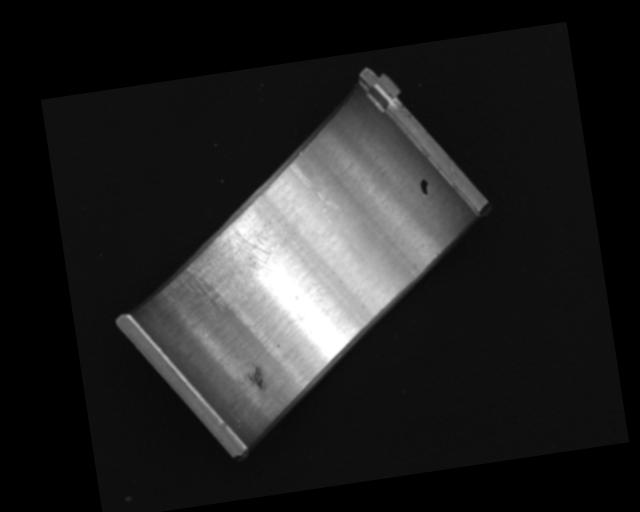blot: (417, 177, 430, 197)
bruise: (245, 361, 266, 391)
nick: (288, 157, 342, 231)
scratch: (153, 208, 295, 321)
